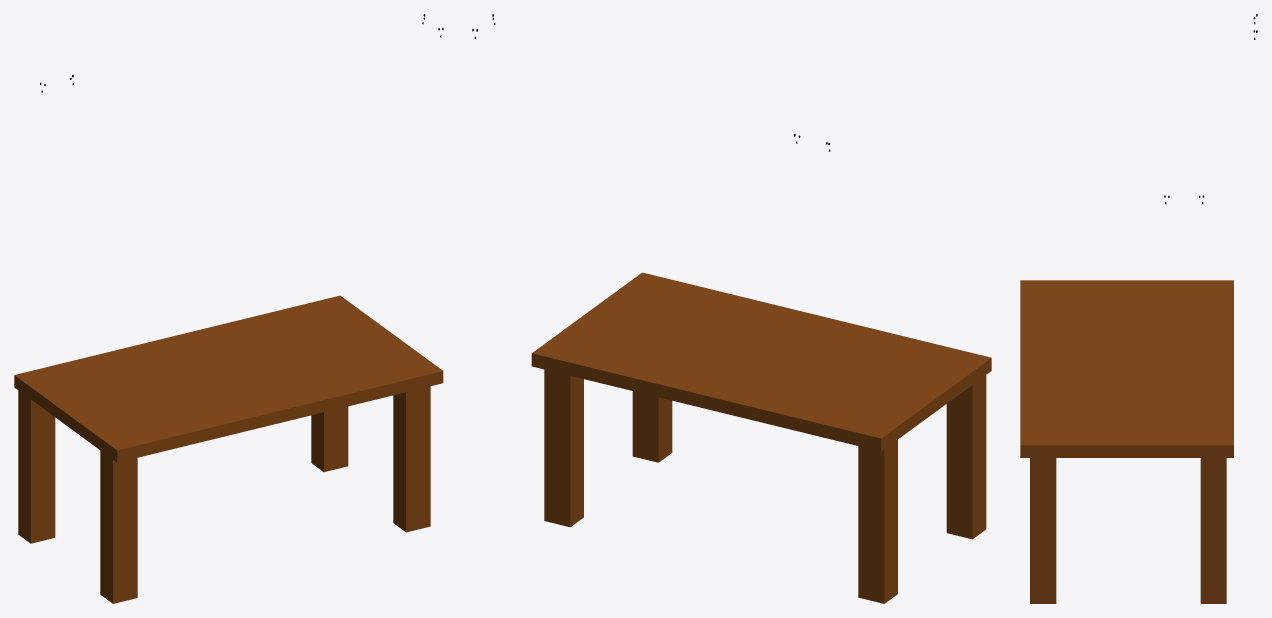
The model's file is ENVIRONMENT_OFFICE_TABLE_KAYU.fbx.
3 views of the same model, side by side, from view 1: azimuth 30°, elevation 25°; view 2: azimuth 150°, elevation 25°; view 3: azimuth 270°, elevation 25° (orthographic). The views are drawn at different scales.
Visible parts, largest first — view 1: Cube.032; view 2: Cube.032; view 3: Cube.032.
Boxes of the visible parts, x1,y1,x2,y2 form: Cube.032: [14, 295, 443, 603]; Cube.032: [531, 272, 991, 603]; Cube.032: [1020, 280, 1233, 603].
Size of the model in its own units: 419 by 436 by 209.
